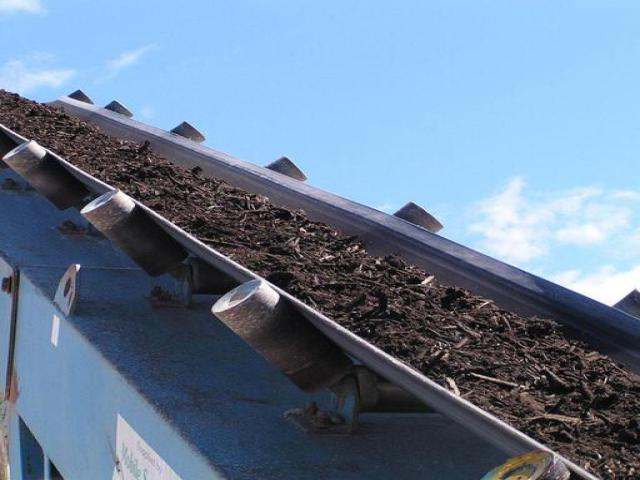conveyor: (0, 87, 636, 479)
